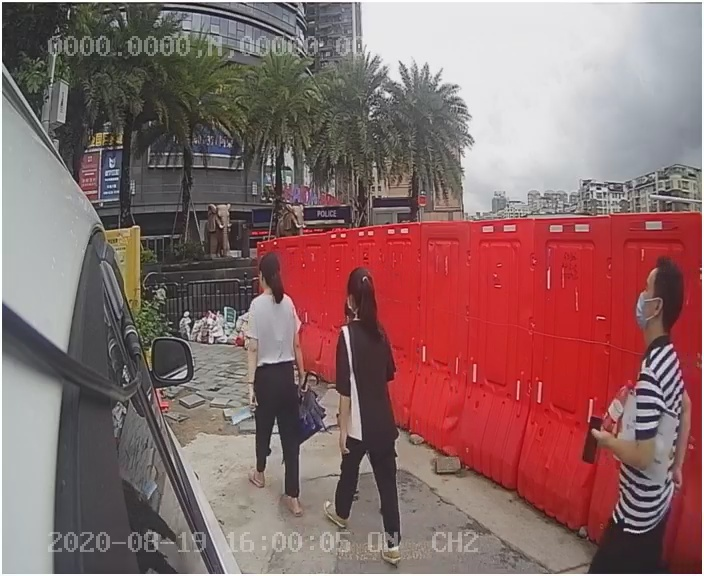person: (568, 249, 696, 563), (314, 267, 447, 540), (222, 244, 323, 522)
